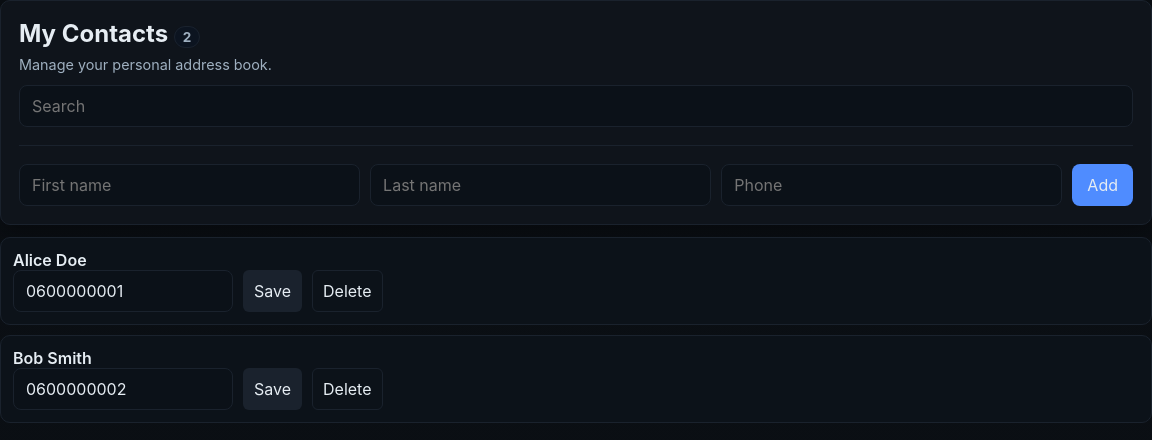
Test: <Contacts /> › search filters by name
The width and height of the screenshot is (1152, 440).
Expected: the text "Alice Doe" is shown, [13,250,87,270]
Type "bob" into the field with placeholder "Search". click: [576, 106]
box: [19,85,1133,127]
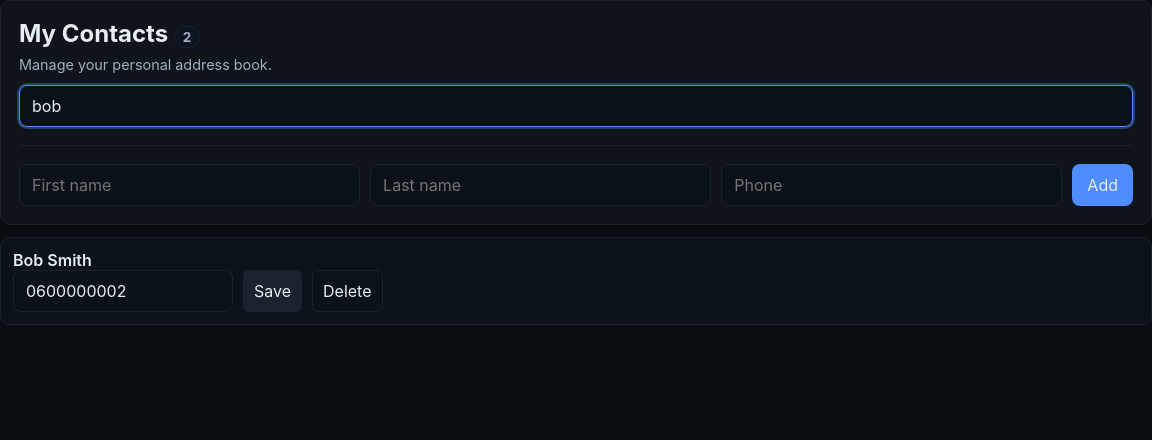
Expected: the text "Bob Smith" is shown, [13,250,92,270]
Expected: the text "Alice Doe" is gone
